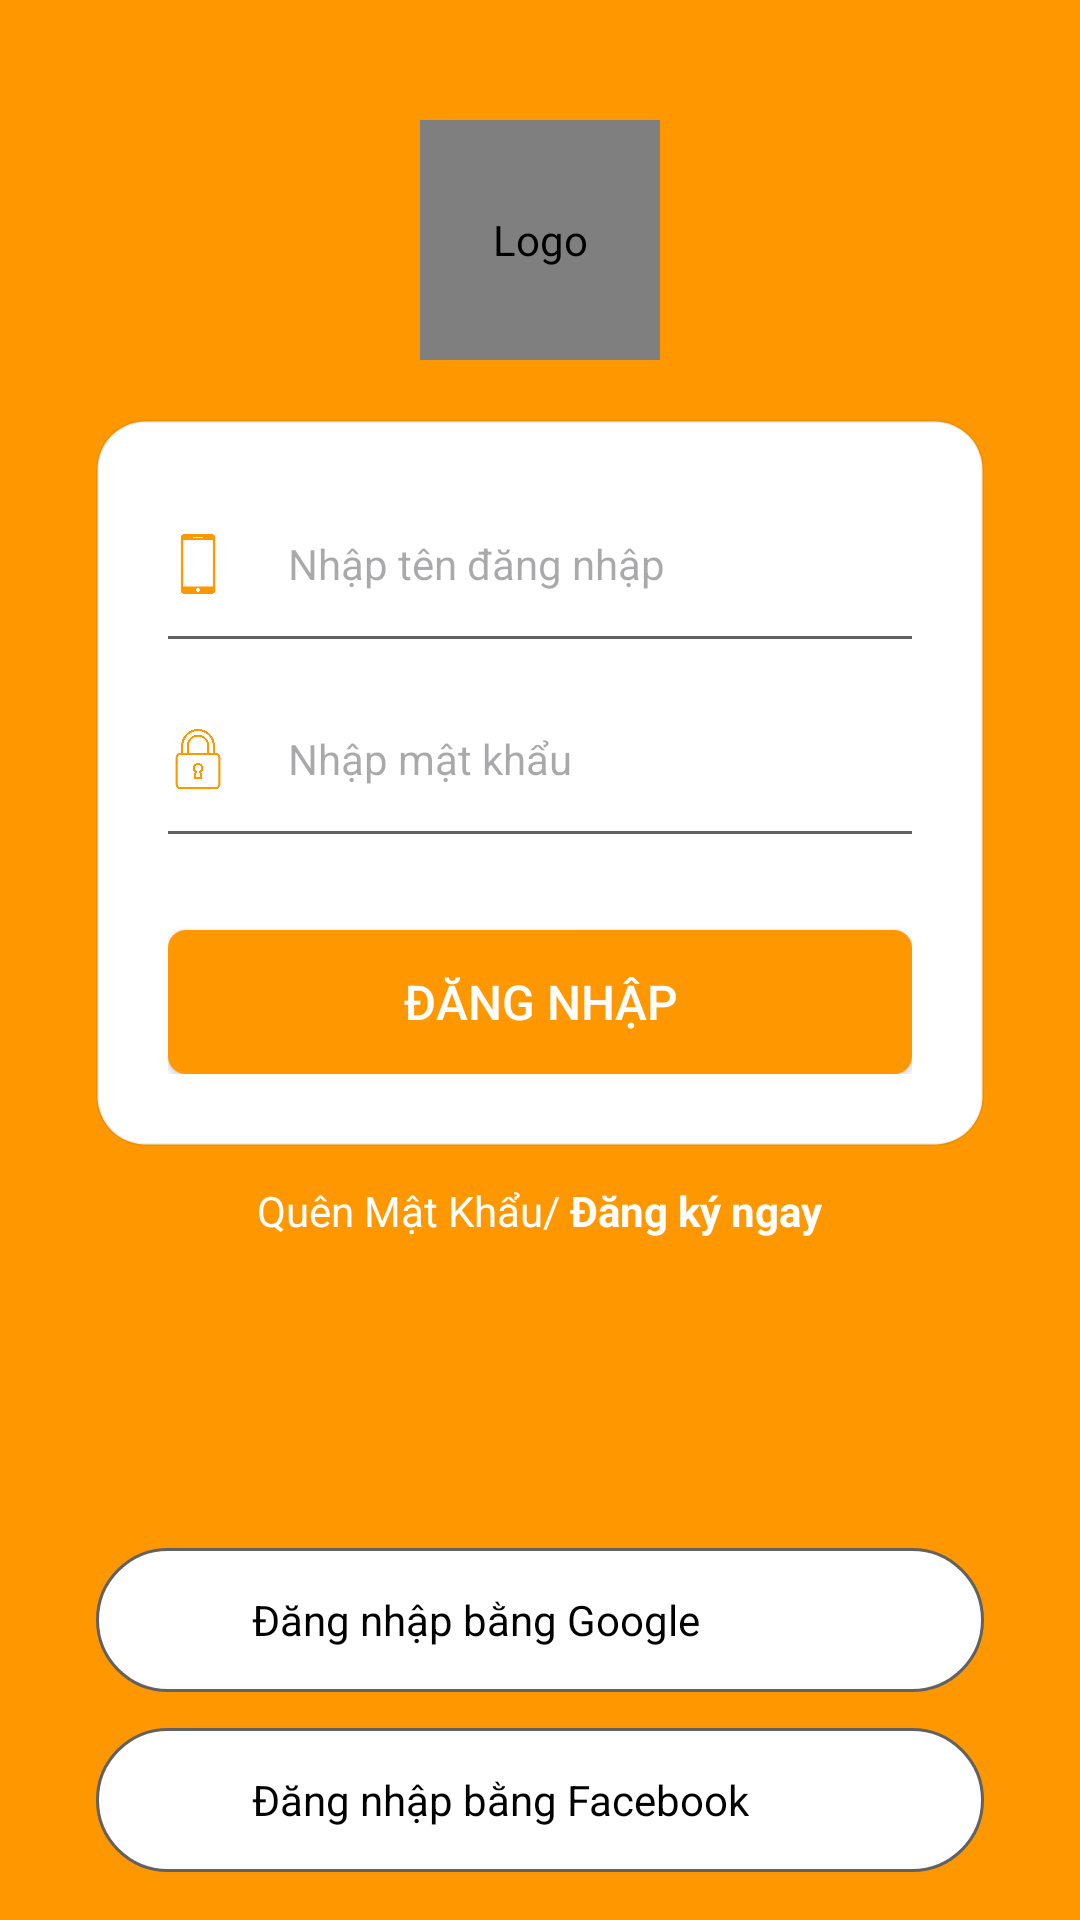

Named icons in this screenshot (1080 × 1920) and their centers, (x,y):
Password icon: (198,759)
Username icon: (198,564)
